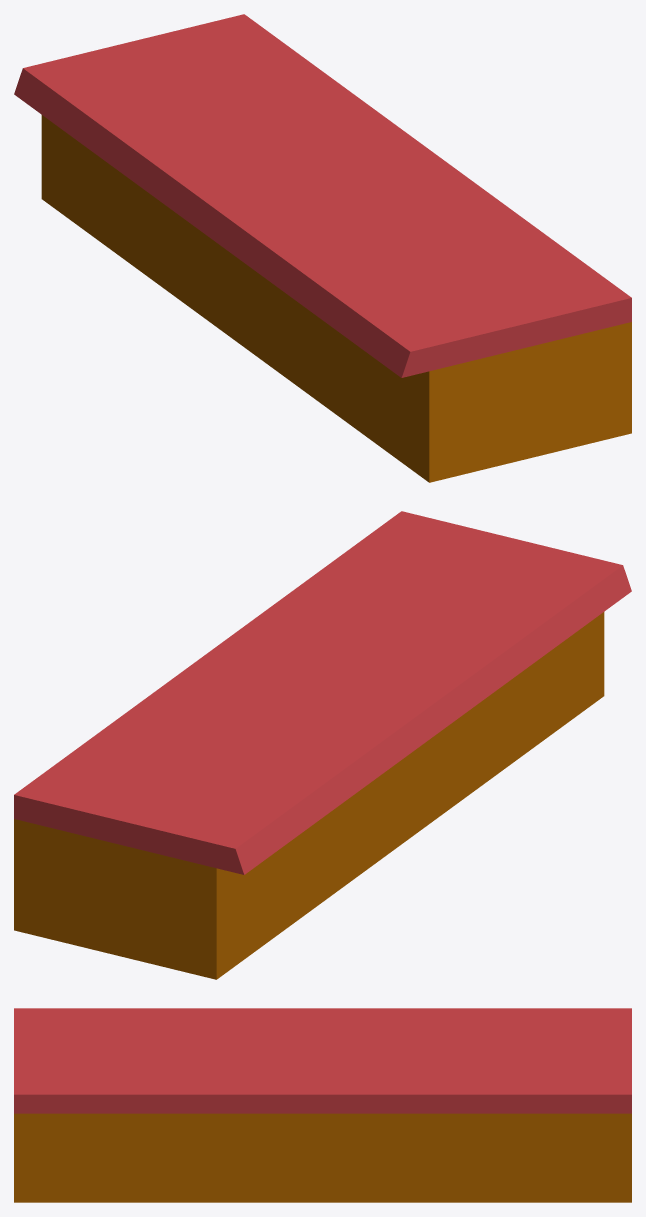
Rendered from stair.glb.
The picture shows the model from 3 angles, top to bottom: view 1: azimuth 30°, elevation 25°; view 2: azimuth 150°, elevation 25°; view 3: azimuth 270°, elevation 25°; orthographic projection. The views are drawn at different scales.
Parts seen in each view (by area): view 1: Stair; view 2: Stair; view 3: Stair.
Boxes of the visible parts, x1,y1,x2,y2 form: Stair: (14, 14, 631, 482); Stair: (14, 511, 631, 979); Stair: (14, 1008, 631, 1202).
Bounding box in the file's own units: 1.86 × 1.05 × 5.43.
